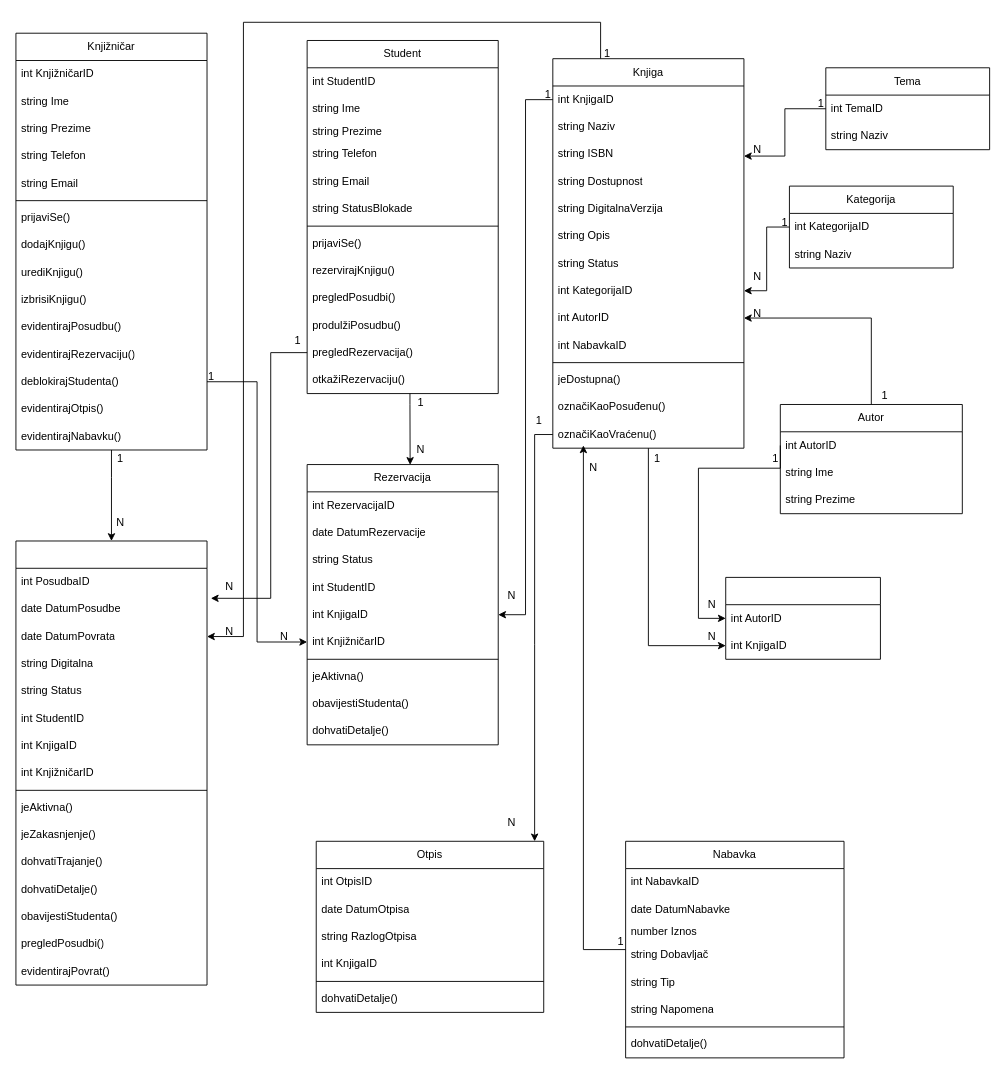
The diagram is 1006 pixels wide and 1074 high, and some of its shapes have lost their labels. Each missing label, with the box of its shape:
KnjigaAutor: (725, 576, 880, 659)
Posuba: (15, 540, 207, 985)
